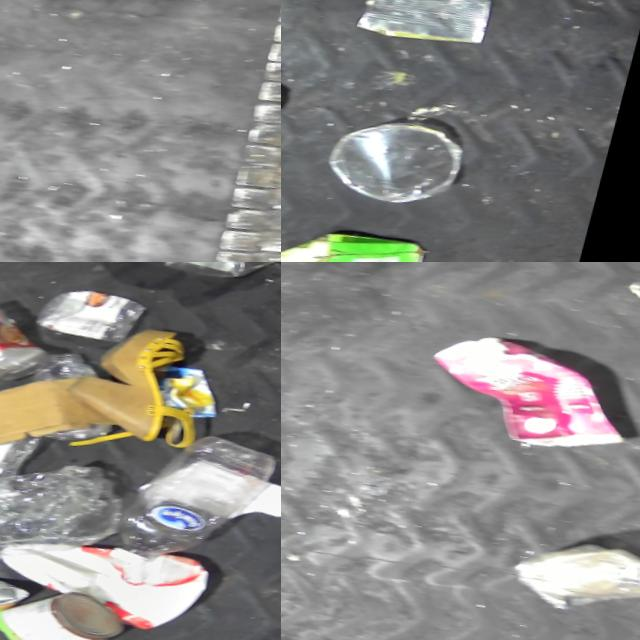can: (354, 0, 505, 63), (0, 578, 144, 640), (0, 570, 41, 634)
milk_jug: (0, 526, 225, 640)
non_white_jug: (413, 320, 640, 475)
plastic_bottle: (107, 424, 281, 593), (21, 349, 136, 457)
